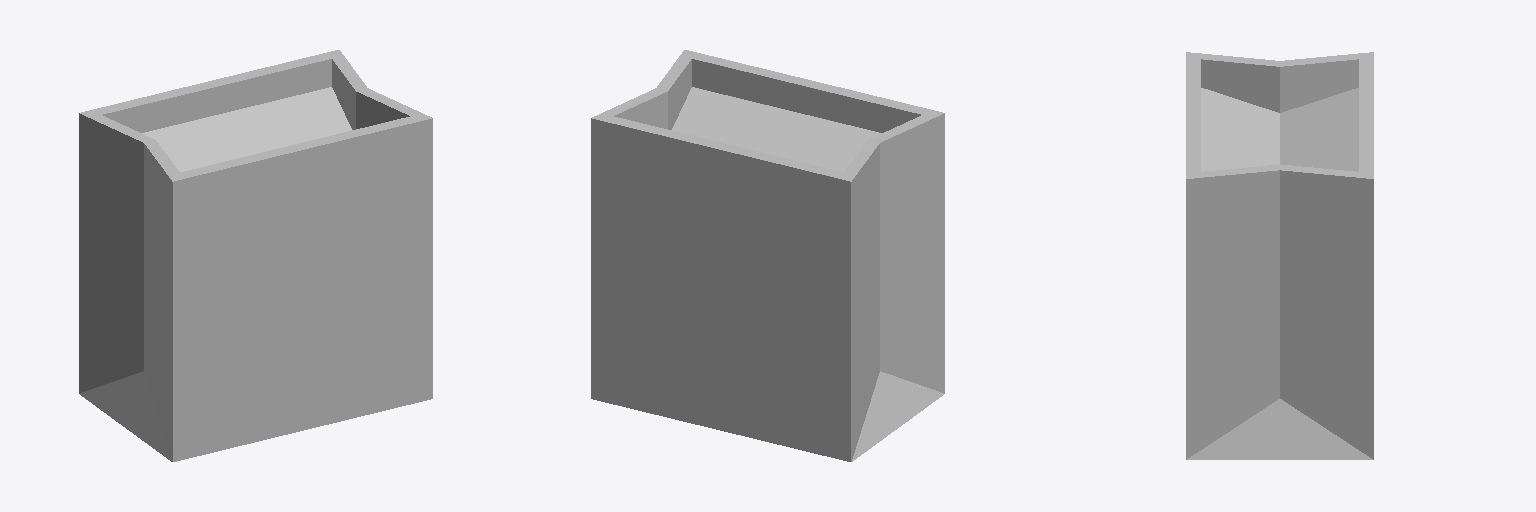
The model's file is bag.obj.
The picture shows the model from 3 angles: view 1: azimuth 30°, elevation 25°; view 2: azimuth 150°, elevation 25°; view 3: azimuth 270°, elevation 25°; orthographic projection.
Parts seen in each view (by area): view 1: Cube.015_Cube.017; view 2: Cube.015_Cube.017; view 3: Cube.015_Cube.017.
Boxes of the visible parts, x1=… form: Cube.015_Cube.017: x1=79, y1=50, x2=432, y2=461; Cube.015_Cube.017: x1=591, y1=50, x2=944, y2=461; Cube.015_Cube.017: x1=1186, y1=52, x2=1373, y2=459.
Bounding box in the file's own units: 0.2782 × 0.2863 × 0.1736.